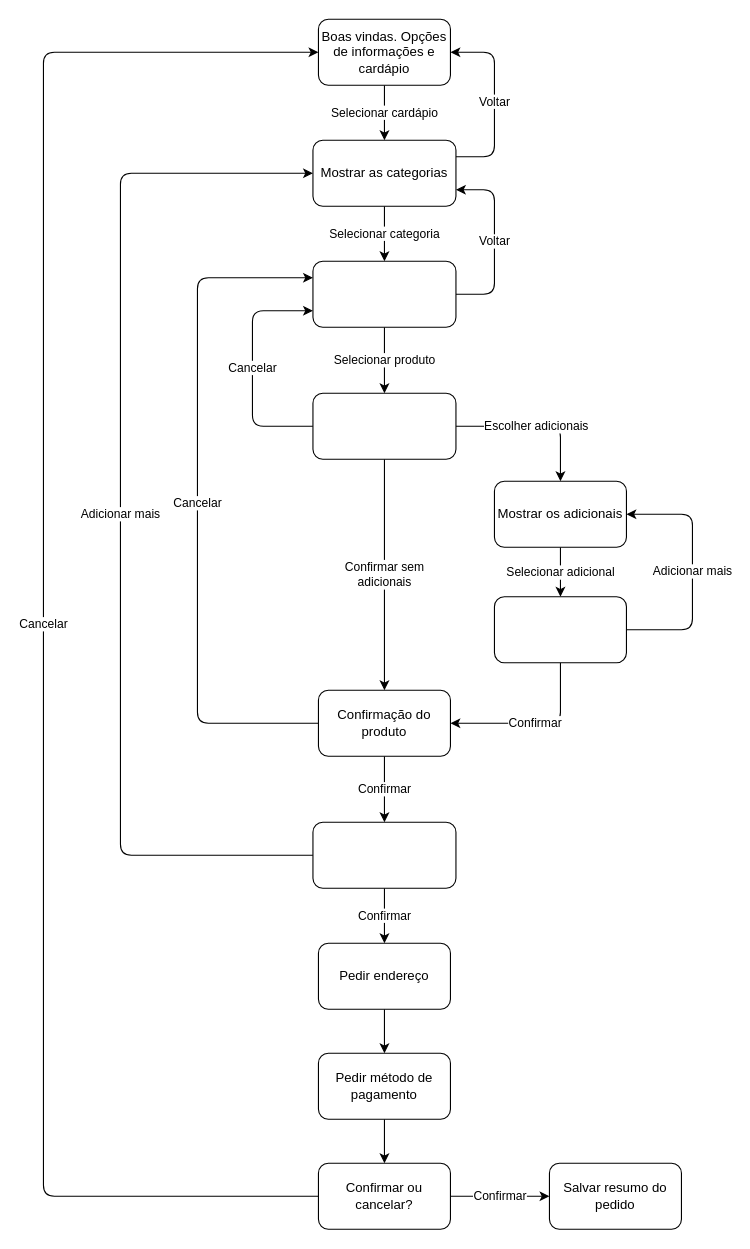
Some shapes in this 750 by 1249 pixel diagram are drawn without their labels. The shapes that lost their labels are listed below. From the top down, each one's centre as x and y in pixels, then its label:
At [384,293]: "Mostrar os produtos".
At [384,425]: "Mostrar informações da comida com adicionais (caso tenha)".
At [559,629]: "Confirmar adicionais ou adicionar mais?".
At [384,854]: "Adicionar mais produtos ou confirmar".
